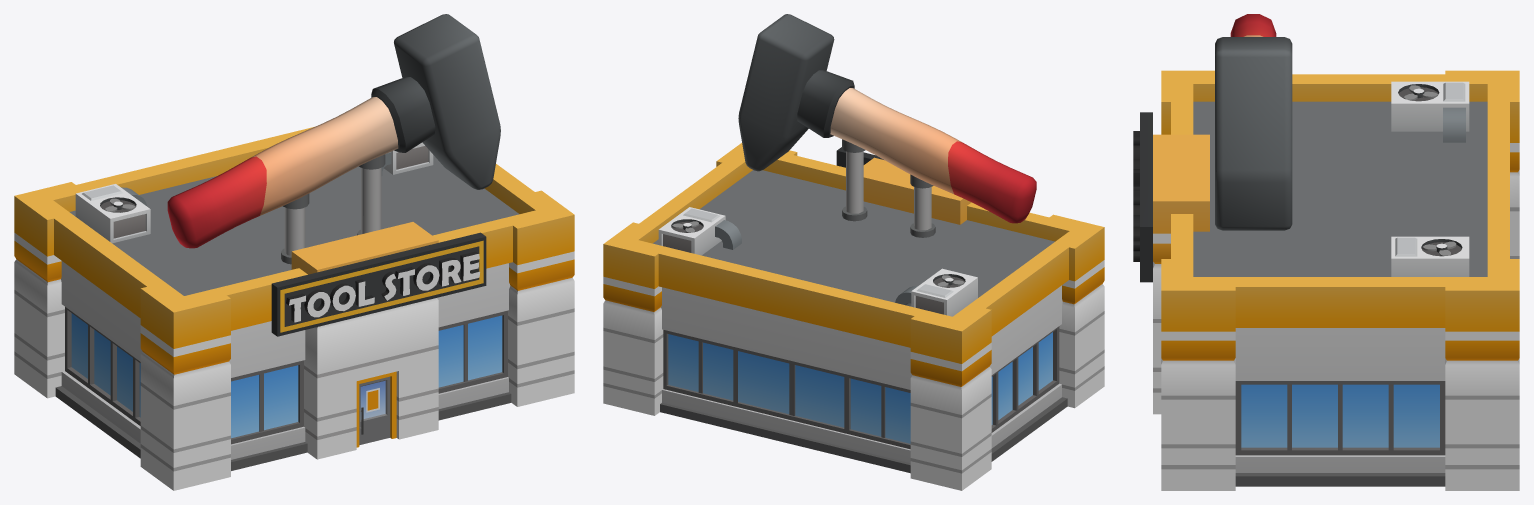
The model's file is tool_store_001.glb.
3 renders of one model, left to right at view 1: azimuth 30°, elevation 25°; view 2: azimuth 150°, elevation 25°; view 3: azimuth 270°, elevation 25°, orthographic. The views are drawn at different scales.
Parts seen in each view (by area): view 1: tool_store_001; view 2: tool_store_001; view 3: tool_store_001.
Boxes of the visible parts, bbox=[...] form: tool_store_001: bbox=[14, 14, 574, 490]; tool_store_001: bbox=[603, 14, 1104, 490]; tool_store_001: bbox=[1133, 14, 1519, 490].
Size of the model in its own units: 14.66 by 12.45 by 10.88.
Materials: 2 (2 with a texture image).
